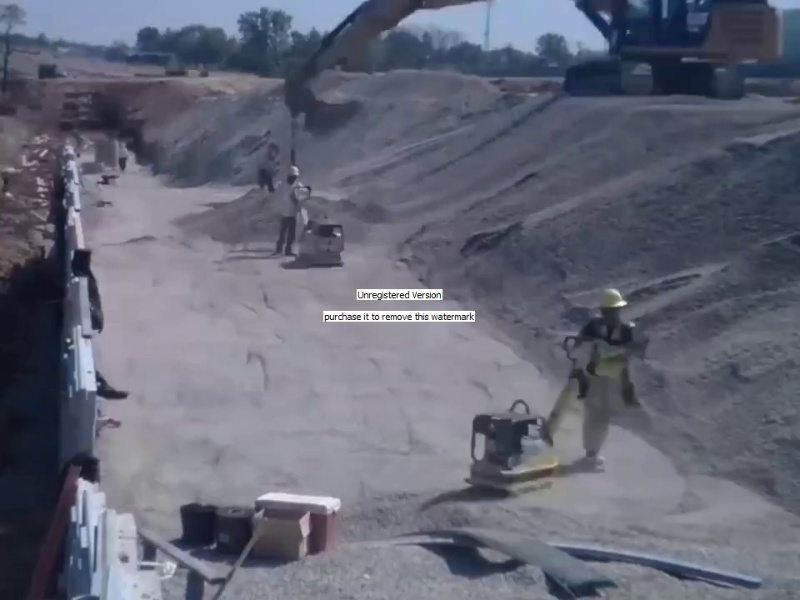excavator: (283, 1, 784, 136)
hardhat: (595, 288, 628, 310), (287, 165, 302, 177)
person: (564, 287, 711, 520), (272, 164, 301, 259)
wall: (56, 137, 150, 600)
